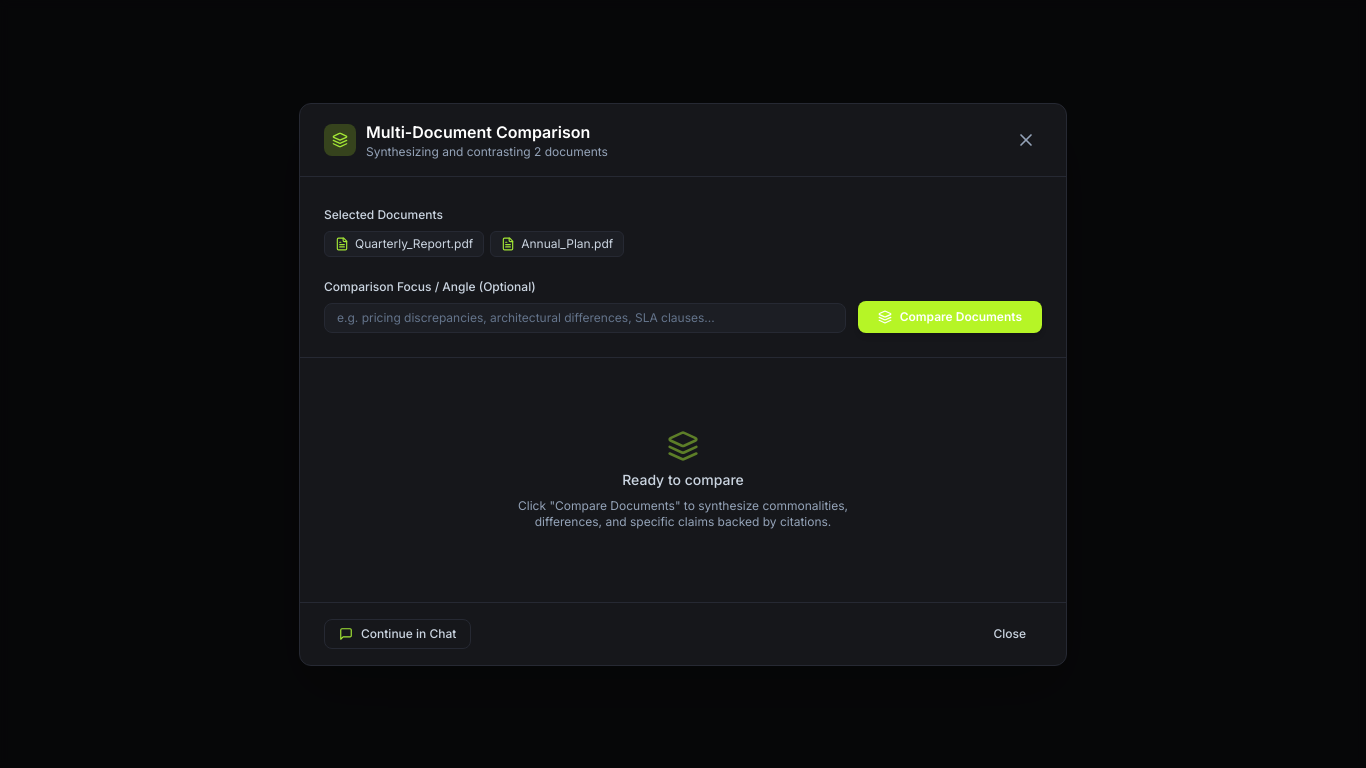
Test case: DocumentComparisonModal › generates cross-document comparison and displays results
Click the button "Compare Documents" at (950, 316), box [858,300,1042,332]
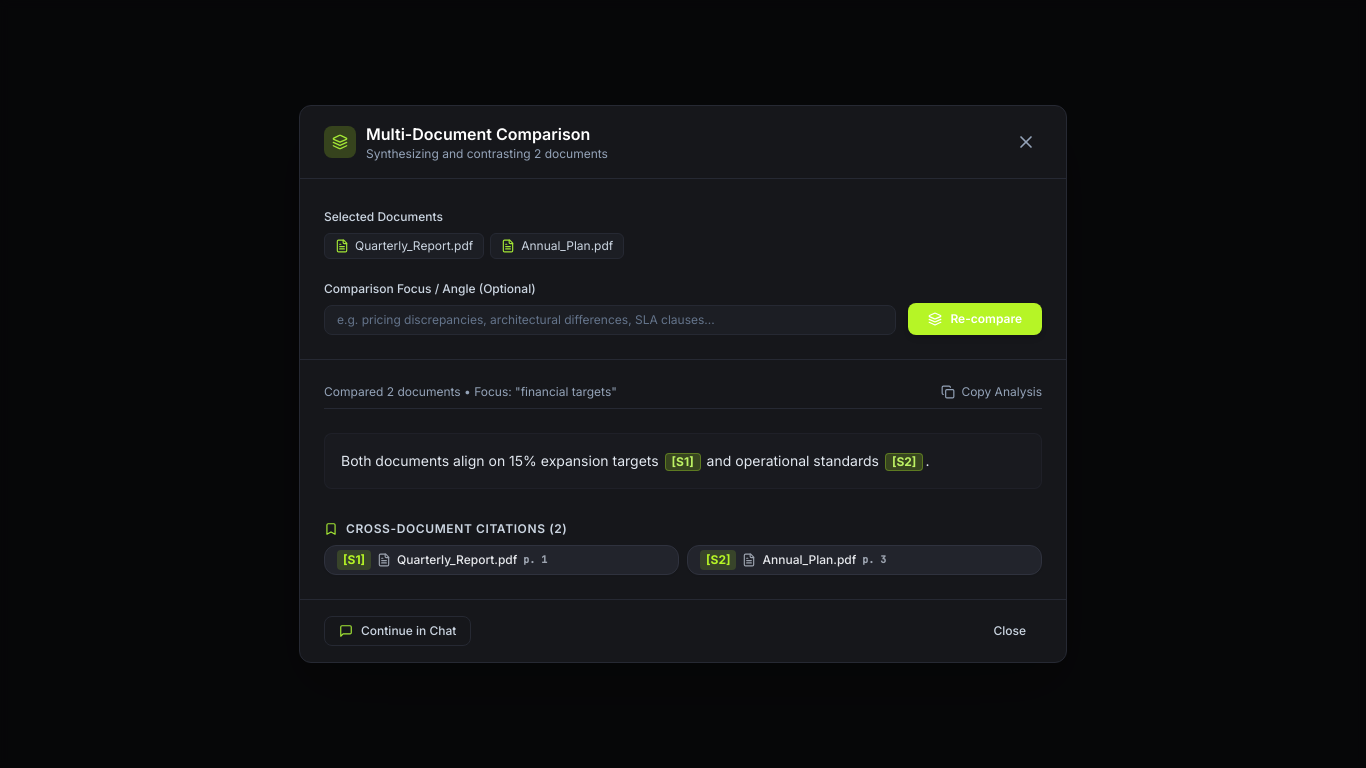
Check: the text "Both documents align on 15% expansion targets" is shown, box [341,452,663,469]
Check: the text "Cross-Document Citations (2)" is shown, box [346,521,567,537]
